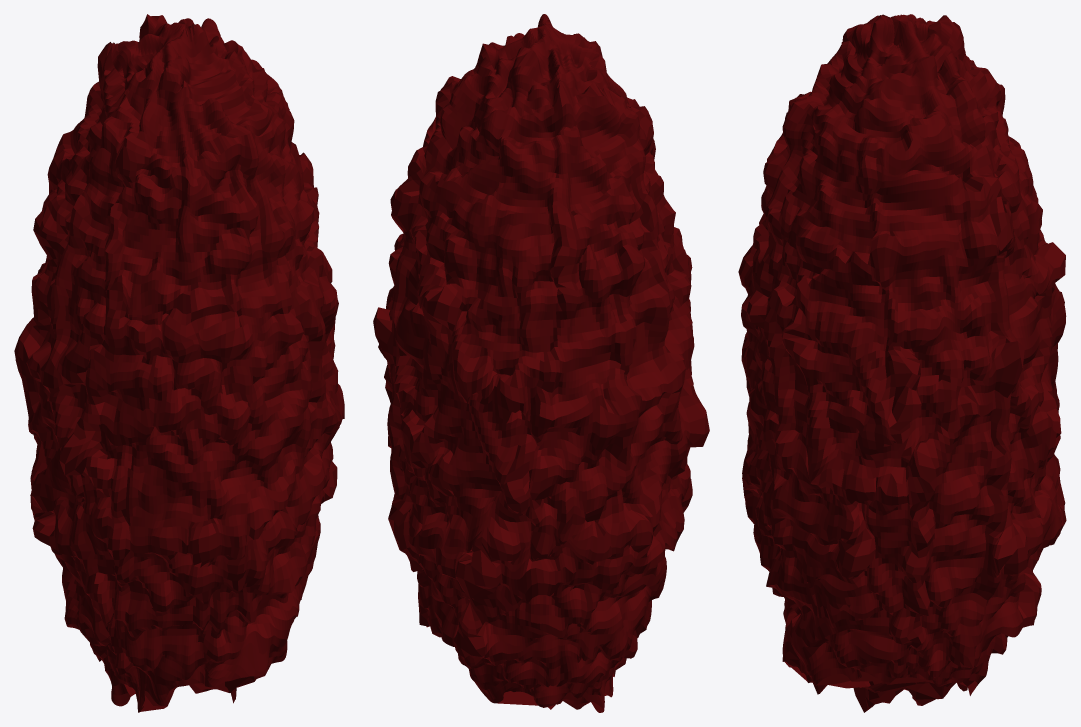
File: Link_Date.fbx
3 renders of one model, left to right at view 1: azimuth 30°, elevation 25°; view 2: azimuth 150°, elevation 25°; view 3: azimuth 270°, elevation 25°, orthographic. The views are drawn at different scales.
Parts seen in each view (by area): view 1: Sphere; view 2: Sphere; view 3: Sphere.
Part boxes in pixels (bbox=[...]): Sphere: bbox=[14, 14, 344, 712]; Sphere: bbox=[373, 14, 709, 712]; Sphere: bbox=[738, 14, 1066, 712].
Size of the model in its own units: 240 by 535 by 230.
